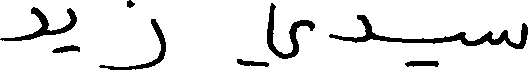د: (0, 4, 45, 40), (330, 13, 371, 43)
ز: (100, 0, 164, 68)
س: (486, 21, 526, 50)
ي: (237, 0, 311, 67), (407, 30, 465, 67), (53, 5, 77, 52)
